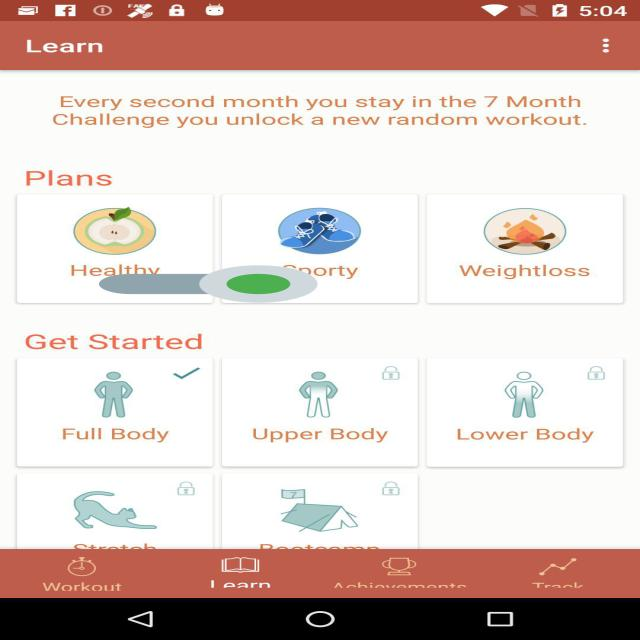social proof: (99, 249, 318, 319)
